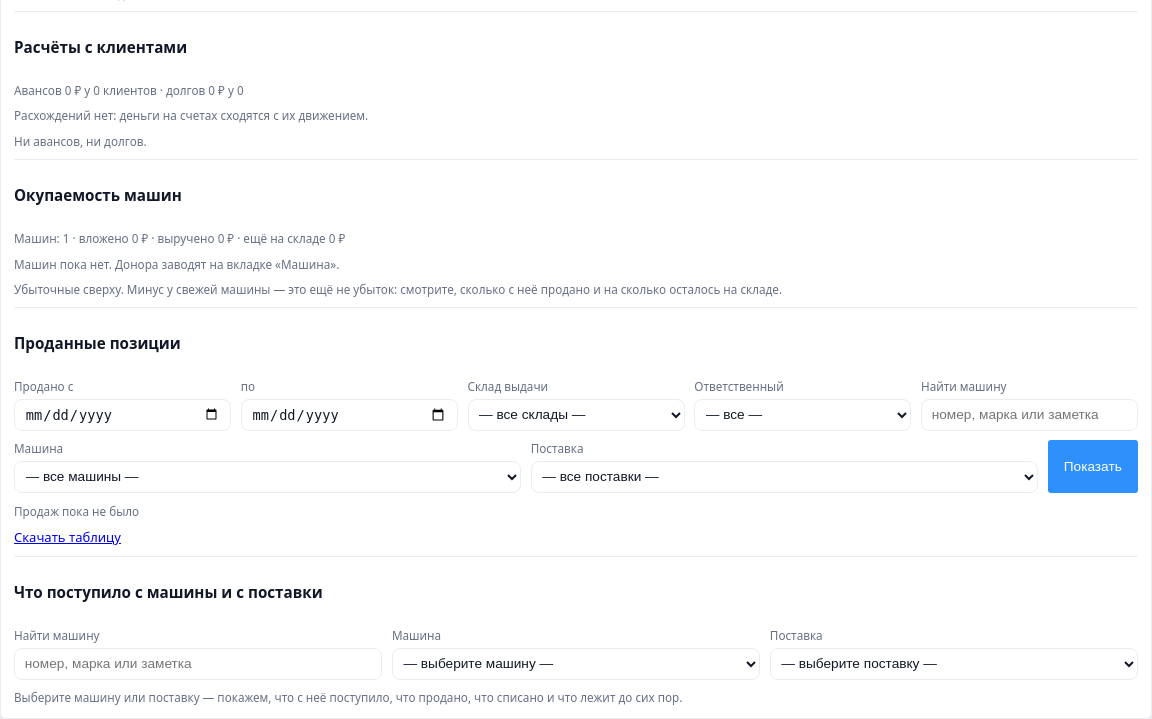
Test: разрез по машине на экране отчётов › подвал вкладки называет товары, штуки и сумму теми же словами
The width and height of the screenshot is (1152, 719).
(page scrolled)
Select "418 · Toyota Camry 2007" in the 2nd dropdown labelled "Машина": (576, 664) [392, 648, 760, 680]
(page scrolled)
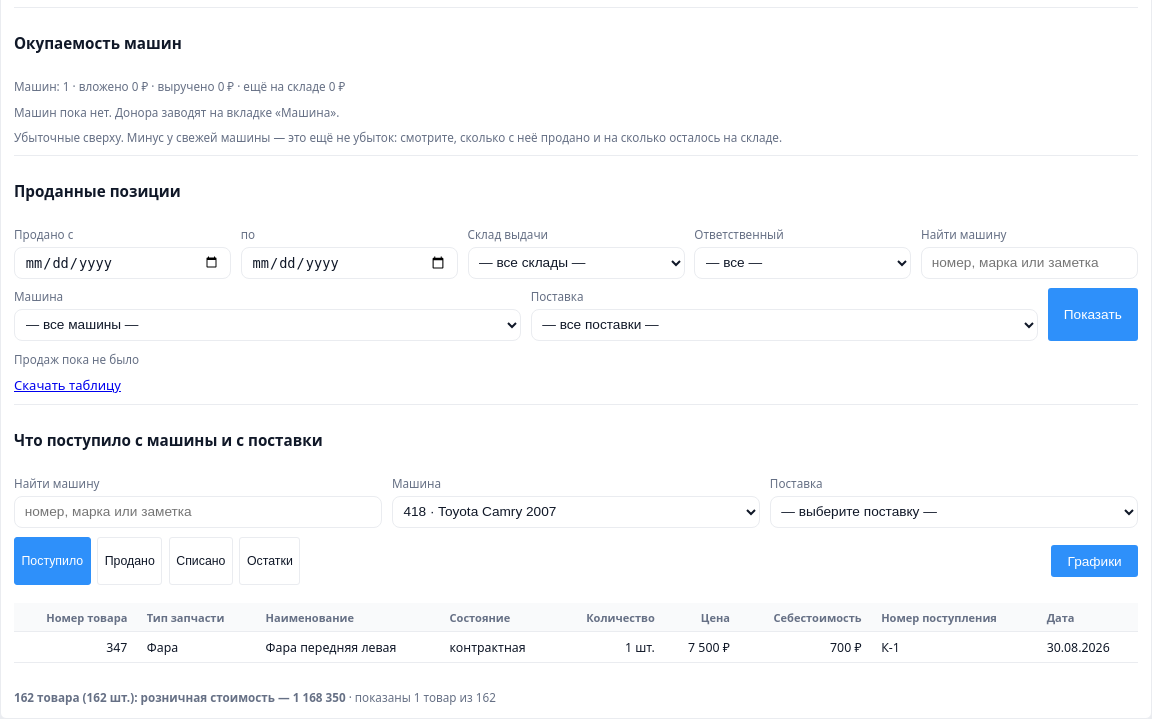
Now the text "Фара передняя левая" is shown, box [256, 632, 440, 662]
Now the text "30.08.2026" is shown, box [1037, 632, 1138, 662]
